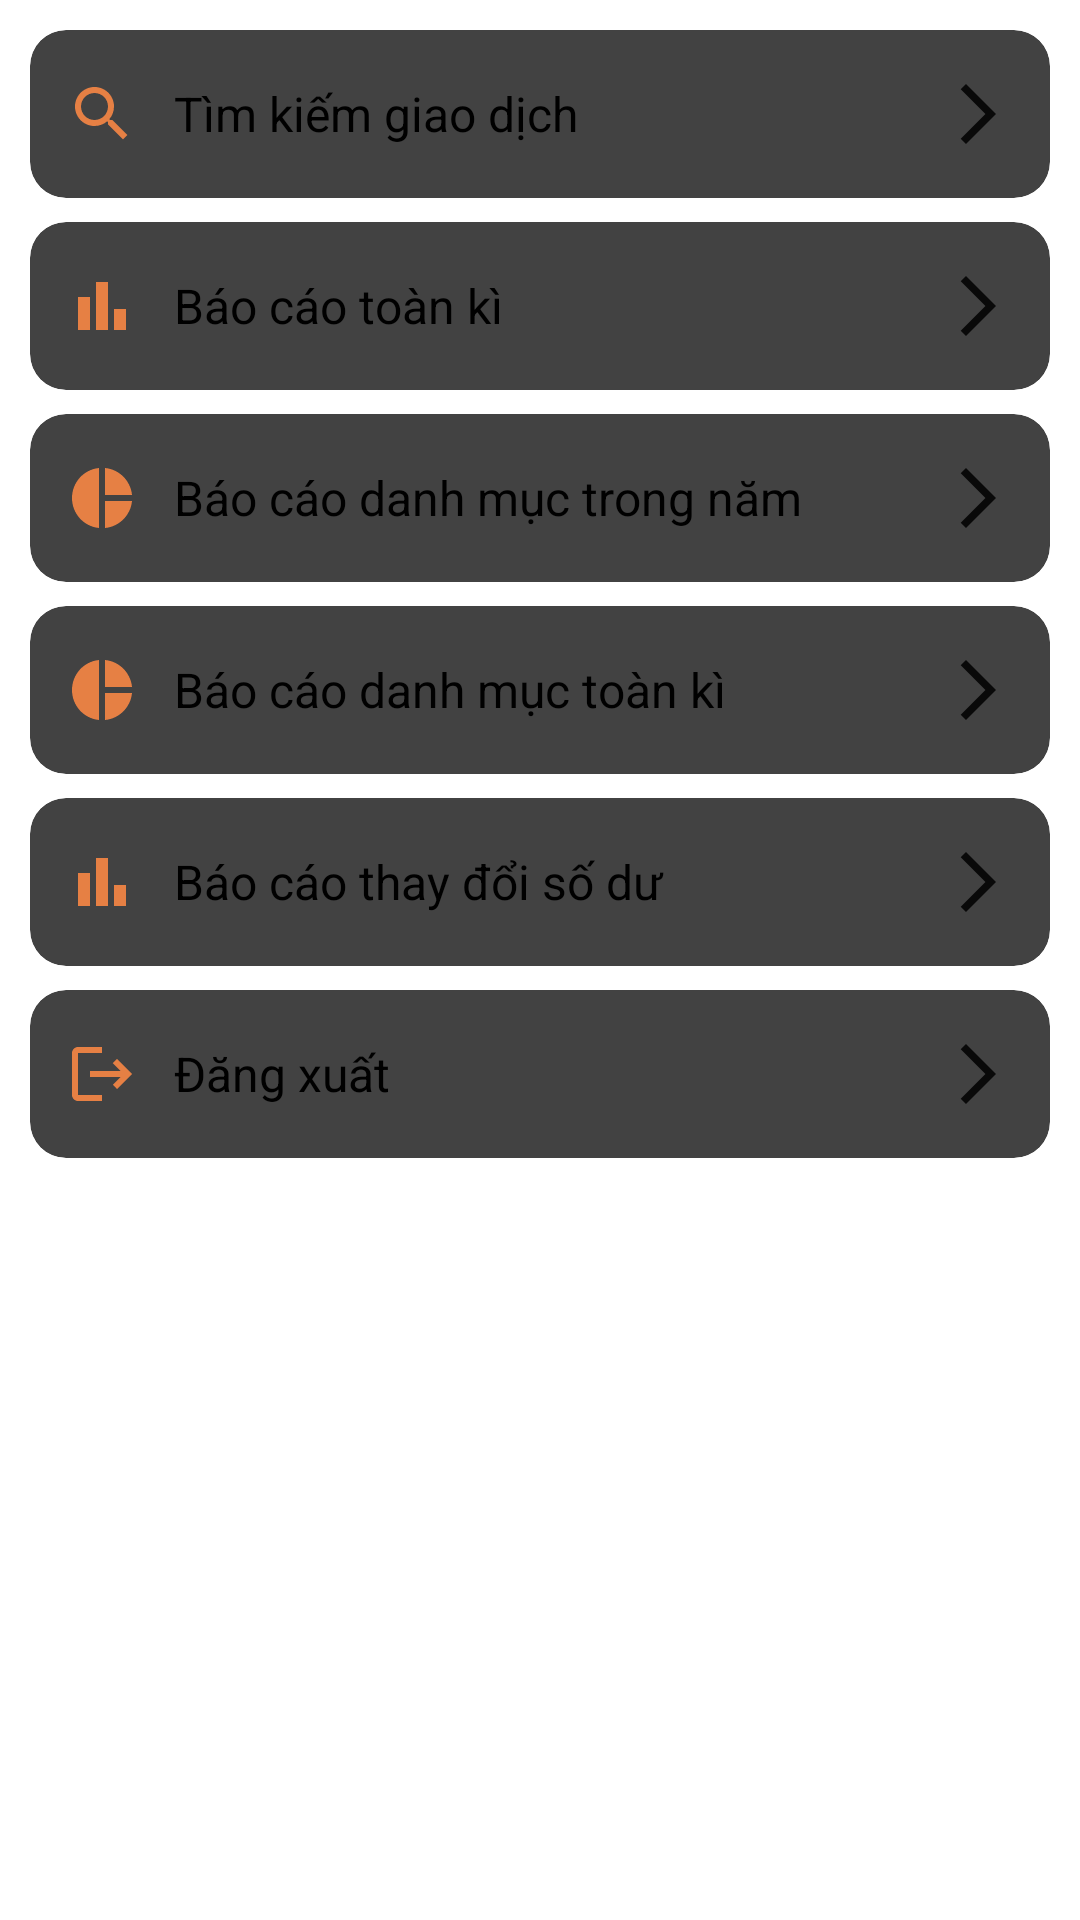

Locate icon controls on the screen. Image size 1080px×1920px, boxes as [x1, y1, x2, y2].
arrow right: [961, 84, 996, 144], [961, 276, 996, 336], [961, 468, 996, 528], [961, 660, 996, 720], [961, 852, 996, 912], [961, 1044, 996, 1104]
bar chart: [78, 282, 126, 330], [78, 858, 126, 906]
log out: [72, 1047, 132, 1101]
pie chart: [72, 468, 132, 528], [72, 660, 132, 720]
search: [75, 87, 127, 139]
